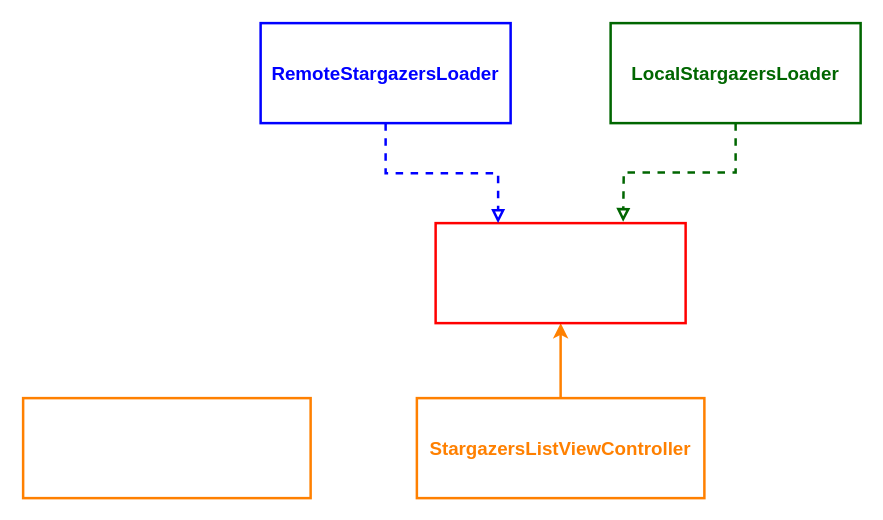
Some shapes in this 883 by 520 pixel diagram are drawn without their labels. Each missing label, with the box of its shape:
<StargazersLoader>: (434, 221, 686, 324)
InsertRepoInfoViewController: (21, 396, 311, 499)
